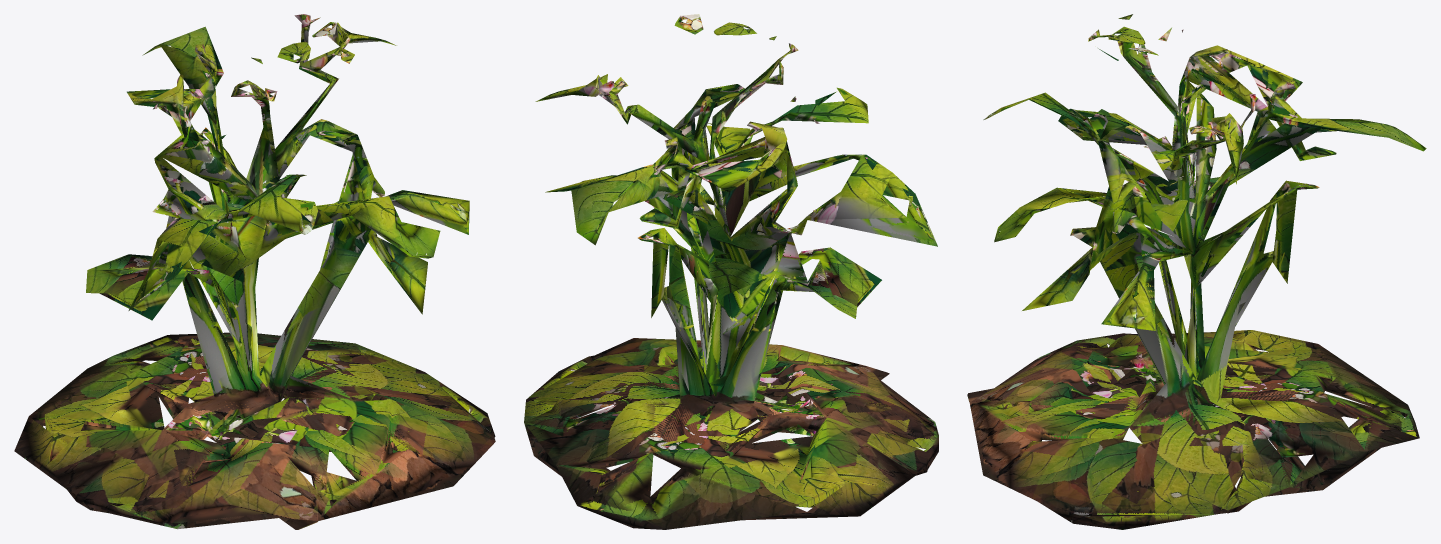
File: Crop_KidneyBean_Growing.fbx
3 renders of one model, left to right at view 1: azimuth 30°, elevation 25°; view 2: azimuth 150°, elevation 25°; view 3: azimuth 270°, elevation 25°, orthographic. The views are drawn at different scales.
Parts seen in each view (by area): view 1: texture_mapping; view 2: texture_mapping; view 3: texture_mapping.
Part boxes in pixels (x1,y1,x2,y2): texture_mapping: [14, 14, 495, 529]; texture_mapping: [524, 14, 938, 529]; texture_mapping: [967, 14, 1426, 529].
Bounding box in the file's own units: 0.8911 × 0.8977 × 0.8972.
Materials: 1 (1 with a texture image).
